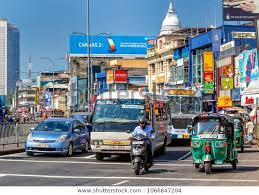tuk tuk: (191, 114, 239, 174), (235, 114, 246, 152)
